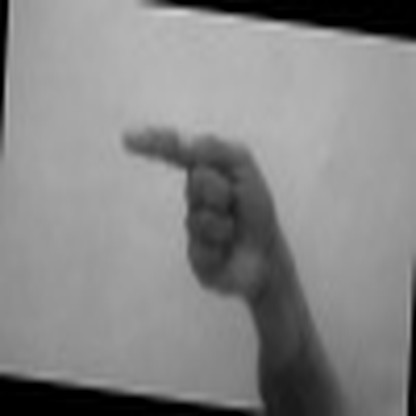g: (98, 113, 301, 302)
